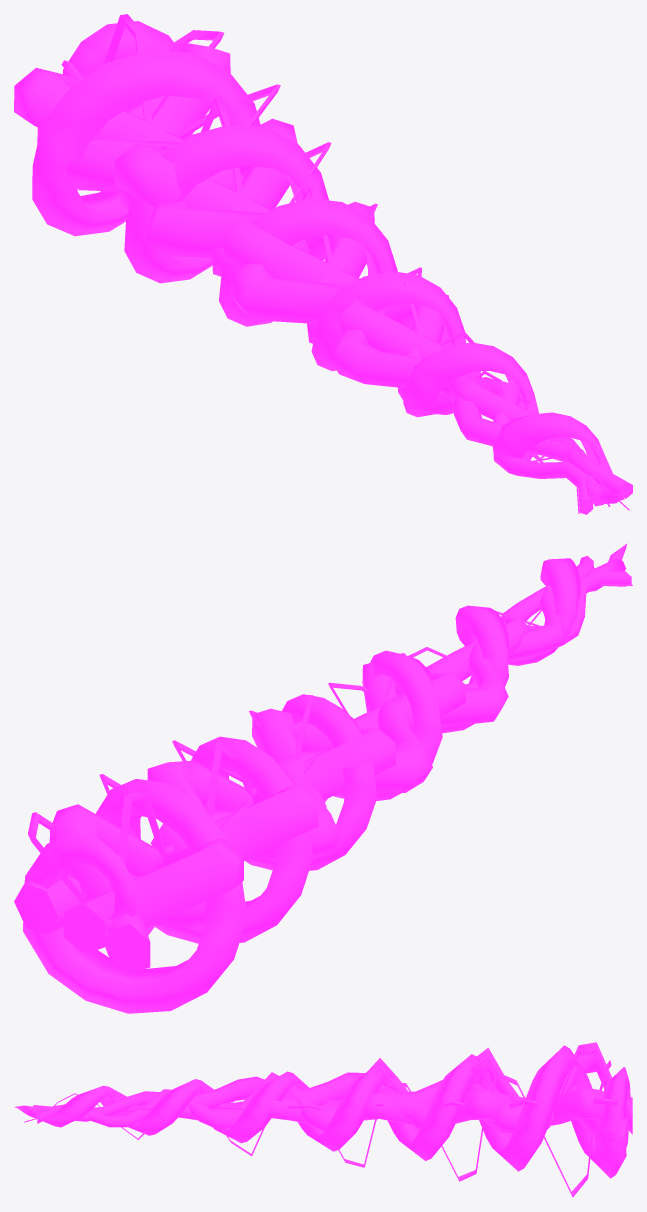
The model's file is beam.glb.
3 renders of one model, top to bottom at view 1: azimuth 30°, elevation 25°; view 2: azimuth 150°, elevation 25°; view 3: azimuth 270°, elevation 25°, orthographic. The views are drawn at different scales.
Visible parts, largest first — view 1: beam_helix, Cylinder, Cylinder.002, Cylinder.001, Cylinder.004, Cylinder.003; view 2: beam_helix, Cylinder, Cylinder.002, Cylinder.001, Cylinder.003, Cylinder.004, Cylinder.005; view 3: beam_helix, Cylinder.002, Cylinder, Cylinder.001, Cylinder.005, Cylinder.004, Cylinder.003.
Boxes of the visible parts, x1=… form: beam_helix: x1=32, y1=21, x2=624, y2=503; Cylinder: x1=14, y1=67, x2=632, y2=498; Cylinder.002: x1=65, y1=96, x2=604, y2=506; Cylinder.001: x1=37, y1=42, x2=593, y2=514; Cylinder.004: x1=173, y1=30, x2=579, y2=513; Cylinder.003: x1=104, y1=14, x2=610, y2=506; beam_helix: x1=23, y1=543, x2=627, y2=1013; Cylinder: x1=63, y1=555, x2=593, y2=954; Cylinder.002: x1=14, y1=558, x2=626, y2=934; Cylinder.001: x1=49, y1=570, x2=631, y2=973; Cylinder.003: x1=105, y1=624, x2=544, y2=941; Cylinder.004: x1=28, y1=583, x2=632, y2=930; Cylinder.005: x1=109, y1=563, x2=594, y2=960; beam_helix: x1=14, y1=1045, x2=632, y2=1178; Cylinder.002: x1=33, y1=1072, x2=628, y2=1149; Cylinder: x1=37, y1=1042, x2=632, y2=1134; Cylinder.001: x1=92, y1=1088, x2=632, y2=1125; Cylinder.005: x1=24, y1=1060, x2=611, y2=1197; Cylinder.004: x1=120, y1=1098, x2=628, y2=1112; Cylinder.003: x1=157, y1=1047, x2=610, y2=1106.
Size of the model in its own units: 0.2325 by 0.251 by 1.04.
